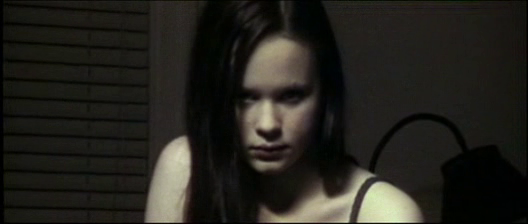cu: (1, 1, 528, 224)
face: (230, 62, 315, 176)
person: (143, 1, 426, 224)
